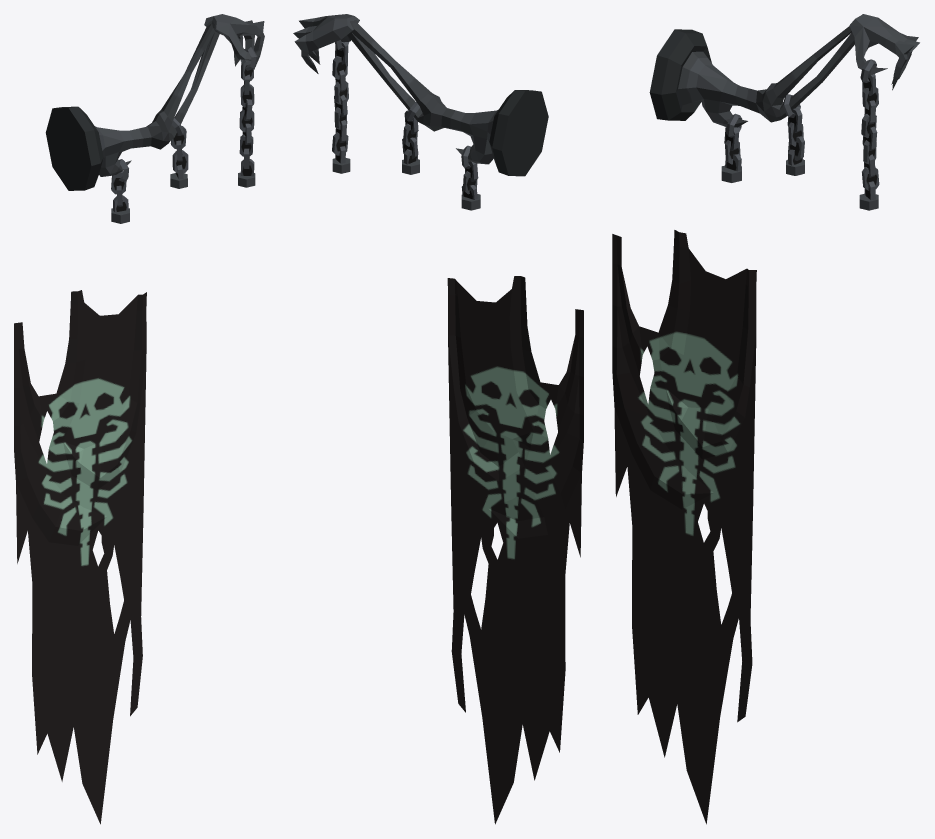
Rendered from banner.gltf.
The picture shows the model from 3 angles, left to right: view 1: azimuth 30°, elevation 25°; view 2: azimuth 150°, elevation 25°; view 3: azimuth 330°, elevation 25°; orthographic projection. The views are drawn at different scales.
Parts seen in each view (by area): view 1: banner; view 2: banner; view 3: banner.
Part boxes in pixels (x1=…): banner: x1=14, y1=14, x2=264, y2=824; banner: x1=293, y1=14, x2=583, y2=824; banner: x1=612, y1=14, x2=919, y2=824.
Bounding box in the file's own units: 1.57 × 4.34 × 0.5191.
1 material, 1 textured.
